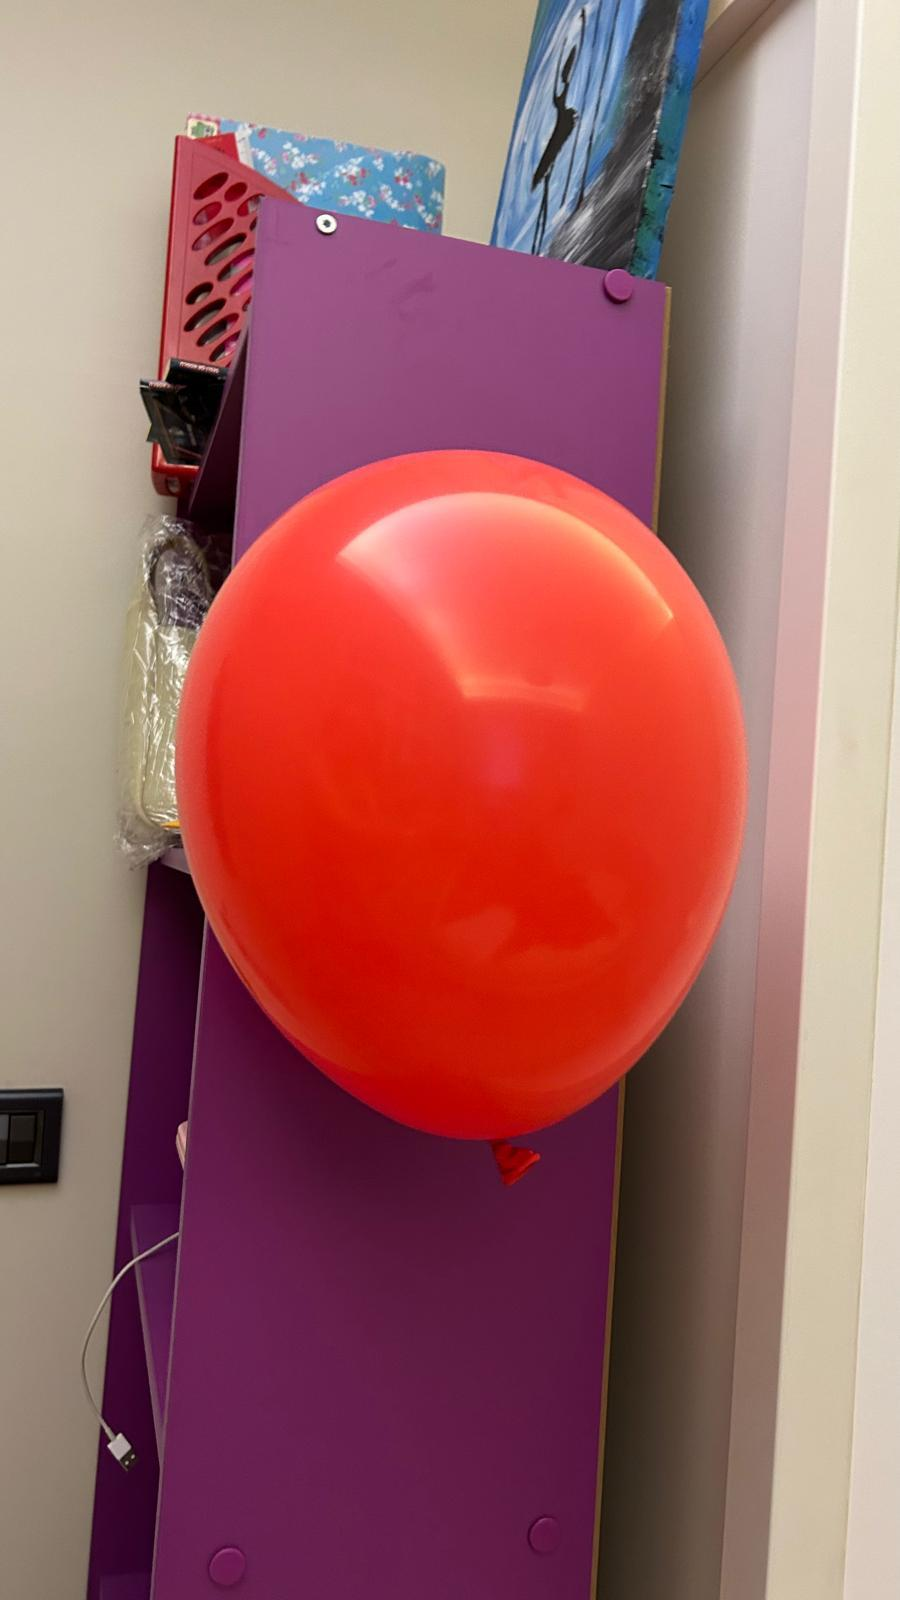red: (167, 444, 756, 1192)
